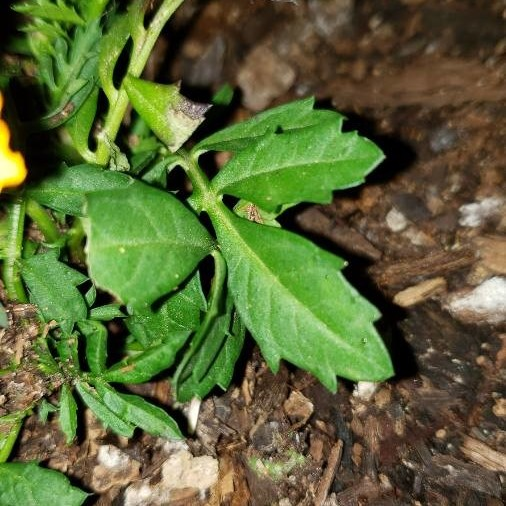obstacle: (0, 24, 337, 369)
